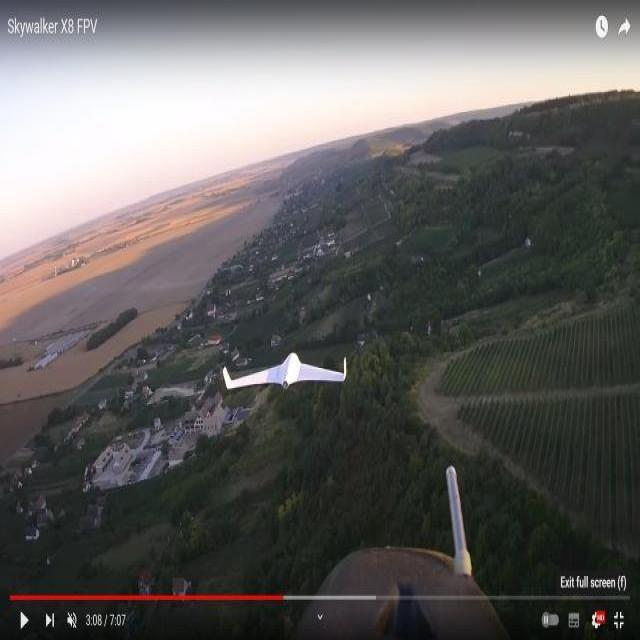UAV: (218, 337, 392, 398)
